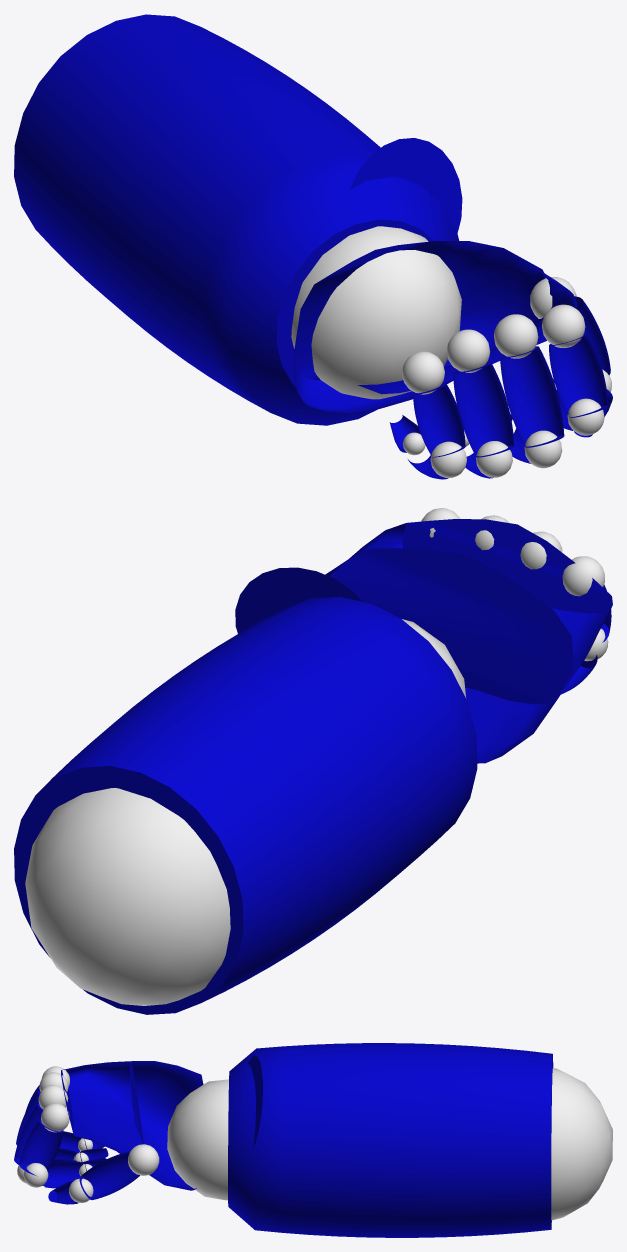
The model's file is RocketPunch.fbx.
3 views of the same model, one above another, from view 1: azimuth 30°, elevation 25°; view 2: azimuth 150°, elevation 25°; view 3: azimuth 270°, elevation 25° (orthographic). The views are drawn at different scales.
Visible parts, largest first — view 1: RocketPunch; view 2: RocketPunch; view 3: RocketPunch.
Boxes of the visible parts, bbox=[...] form: RocketPunch: bbox=[14, 14, 612, 479]; RocketPunch: bbox=[14, 508, 612, 1014]; RocketPunch: bbox=[14, 1043, 612, 1237].
Size of the model in its own units: 156 by 152 by 446.
